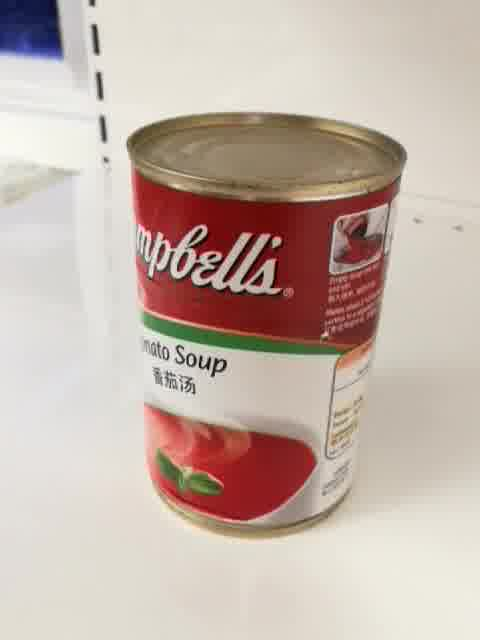tomatosoup: (119, 110, 409, 542)
